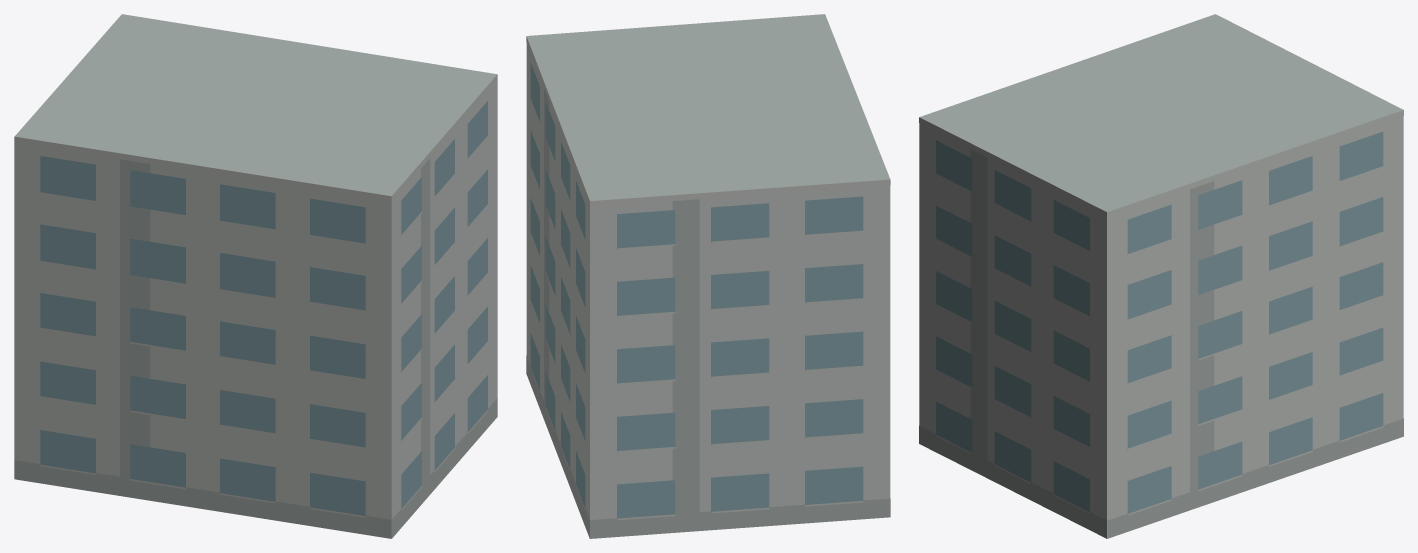
The model's file is survey-upis-32883514.glb.
3 renders of one model, left to right at view 1: azimuth 30°, elevation 25°; view 2: azimuth 150°, elevation 25°; view 3: azimuth 270°, elevation 25°, orthographic. The views are drawn at different scales.
Parts seen in each view (by area): view 1: survey-upis-32883514.tmp; view 2: survey-upis-32883514.tmp; view 3: survey-upis-32883514.tmp.
Part boxes in pixels (x1=…): survey-upis-32883514.tmp: x1=14, y1=14, x2=497, y2=538; survey-upis-32883514.tmp: x1=526, y1=14, x2=890, y2=538; survey-upis-32883514.tmp: x1=919, y1=14, x2=1403, y2=538.
Bounding box in the file's own units: 18.1 × 13.9 × 18.7.
